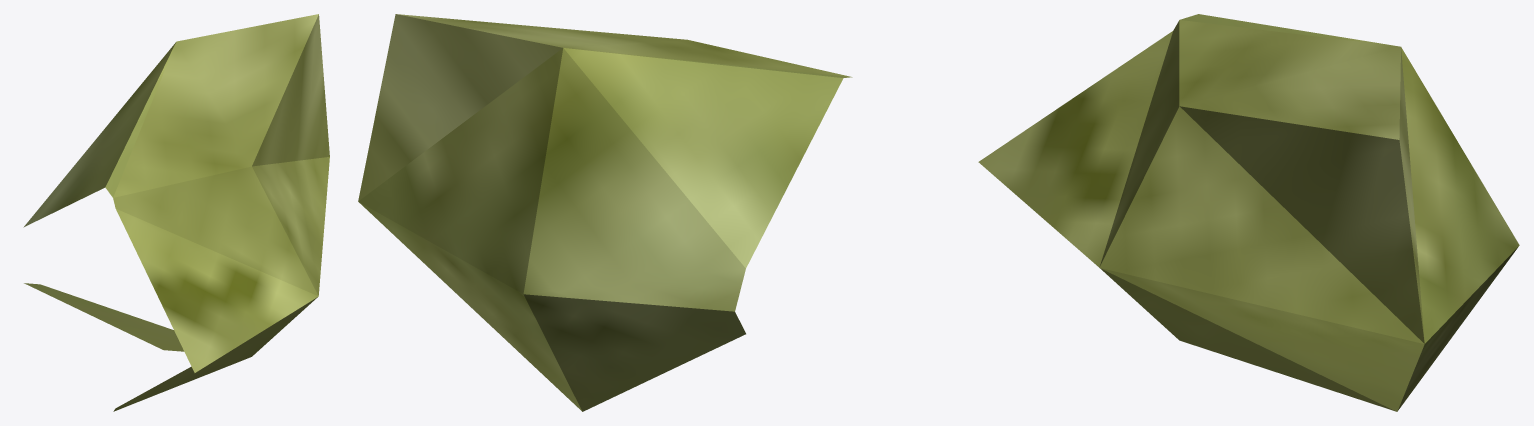
3 renders of one model, left to right at view 1: azimuth 30°, elevation 25°; view 2: azimuth 150°, elevation 25°; view 3: azimuth 270°, elevation 25°, orthographic. The views are drawn at different scales.
Bounding box in the file's own units: 0.1598 × 0.1466 × 0.1923.
1 material, 1 textured.
